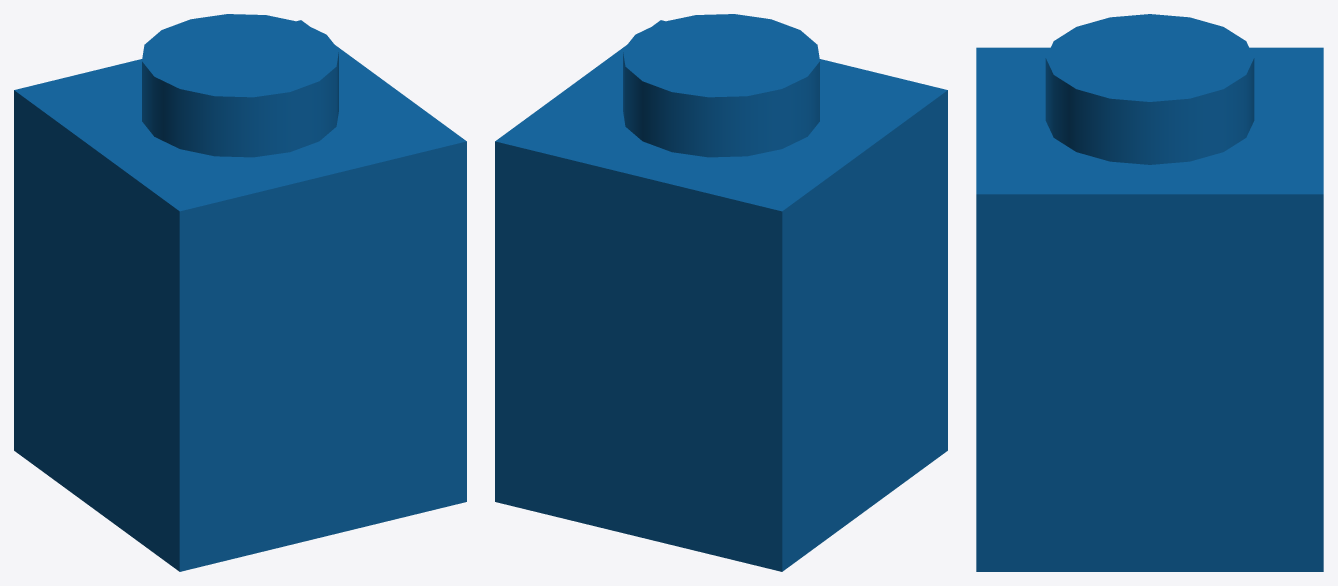
File: brick_1x1.glb
The picture shows the model from 3 angles, left to right: view 1: azimuth 30°, elevation 25°; view 2: azimuth 150°, elevation 25°; view 3: azimuth 270°, elevation 25°; orthographic projection. The views are drawn at different scales.
Visible parts, largest first — view 1: 3005.dat; view 2: 3005.dat; view 3: 3005.dat.
Boxes of the visible parts, x1,y1,x2,y2 form: 3005.dat: (14, 14, 466, 571); 3005.dat: (495, 14, 947, 571); 3005.dat: (976, 14, 1323, 571).
Bounding box in the file's own units: 0.8 × 1.12 × 0.8.
